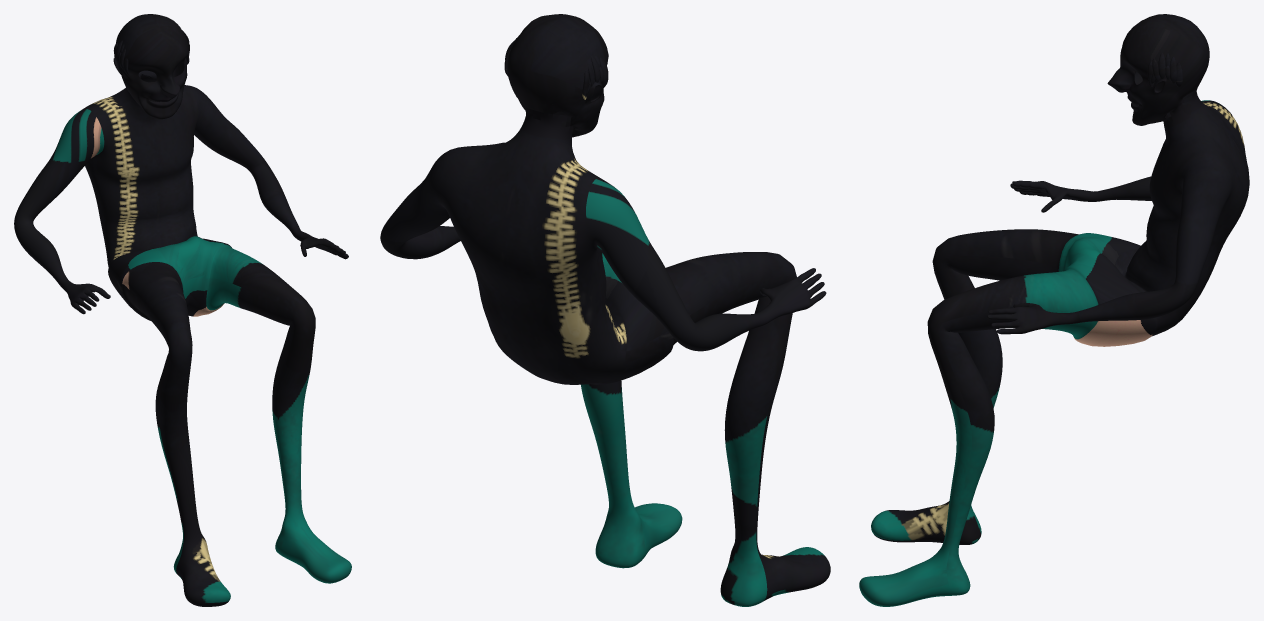
The model's file is character_assis.fbx.
3 views of the same model, side by side, from view 1: azimuth 30°, elevation 25°; view 2: azimuth 150°, elevation 25°; view 3: azimuth 270°, elevation 25° (orthographic). The views are drawn at different scales.
Parts seen in each view (by area): view 1: pCylinder12; view 2: pCylinder12; view 3: pCylinder12.
Boxes of the visible parts, left/top/right/bottom form: pCylinder12: left=14, top=14, right=351, bottom=606; pCylinder12: left=380, top=14, right=830, bottom=606; pCylinder12: left=859, top=14, right=1249, bottom=606.
Size of the model in its own units: 3.54 by 6.37 by 4.07.
